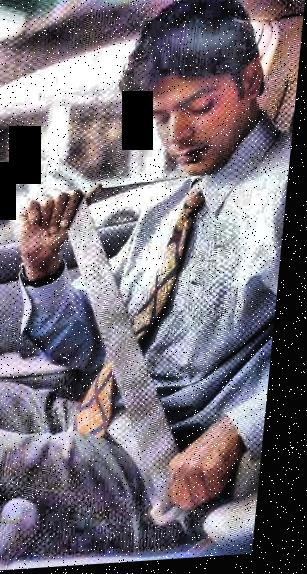seatbelt: (42, 196, 232, 529)
